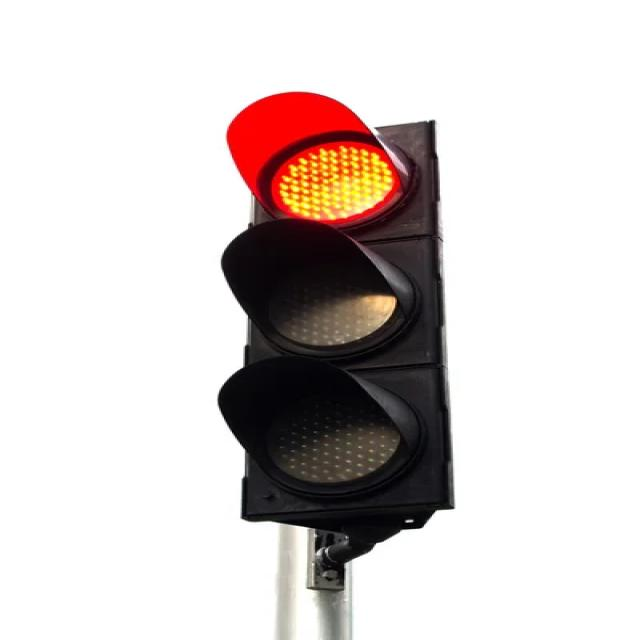red: (224, 105, 416, 228)
